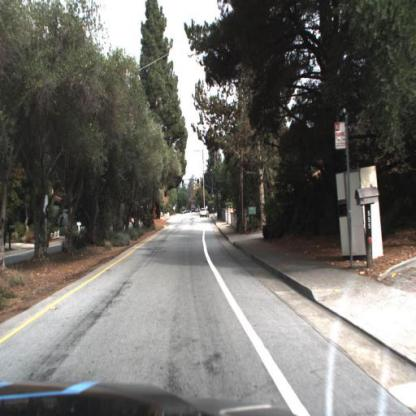car: (199, 204, 210, 221), (202, 206, 212, 222)
trafficLight-Green: (195, 175, 203, 193)
